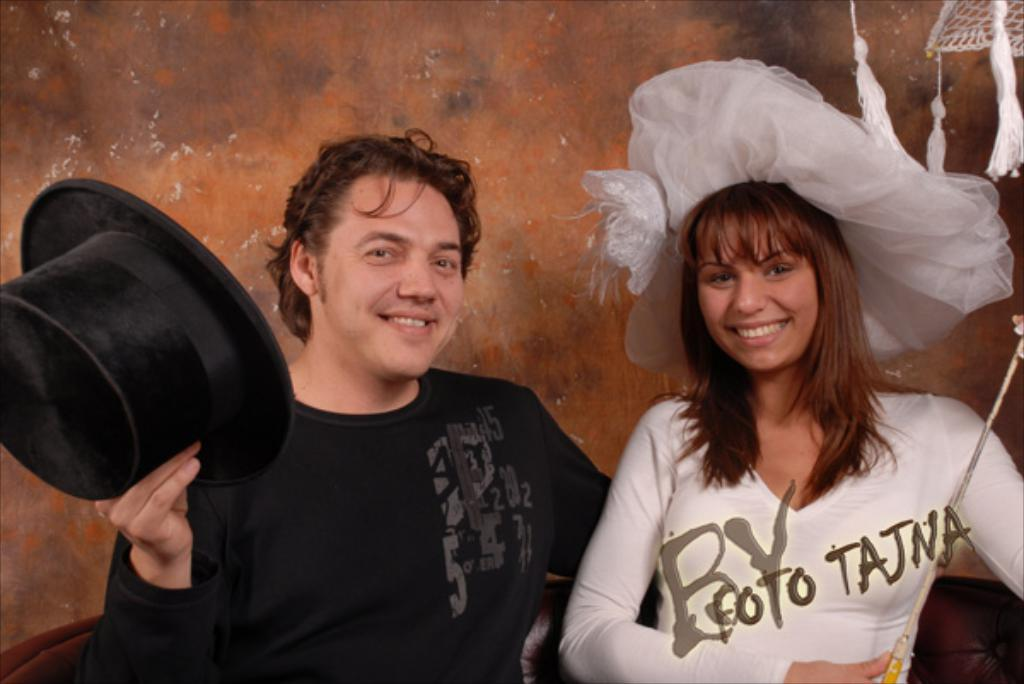Hat: (554, 52, 1017, 380), (0, 174, 293, 504)
